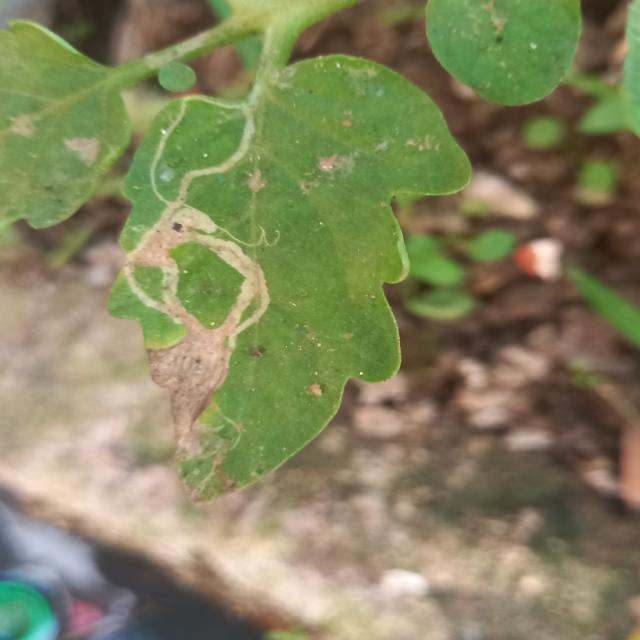Tuta absoluta: (109, 182, 304, 460), (133, 72, 269, 224)
